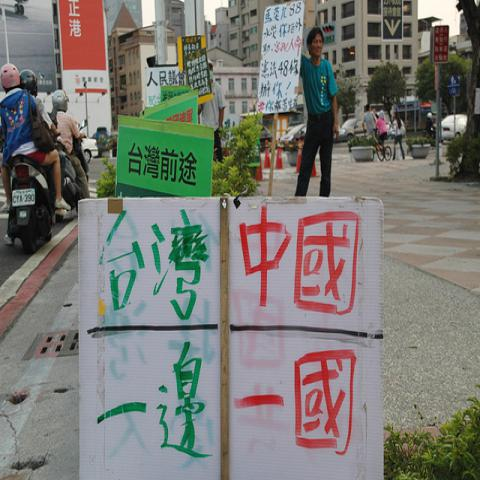car: (336, 117, 365, 144), (442, 115, 467, 144), (281, 124, 307, 142), (82, 137, 98, 163), (260, 126, 273, 153)
motorcycle: (10, 154, 68, 256), (55, 140, 82, 214)
